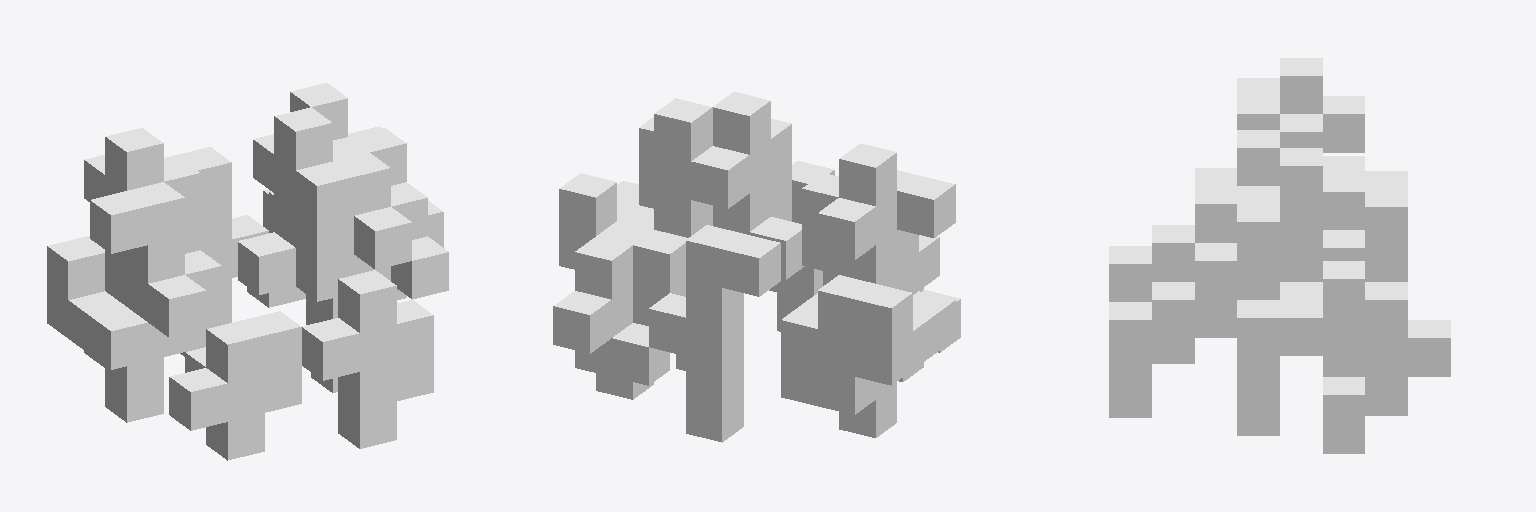
Rendered from UI_tilemodel01.obj.
3 renders of one model, left to right at view 1: azimuth 30°, elevation 25°; view 2: azimuth 150°, elevation 25°; view 3: azimuth 270°, elevation 25°, orthographic.
Size of the model in its own units: 9 by 7 by 8.